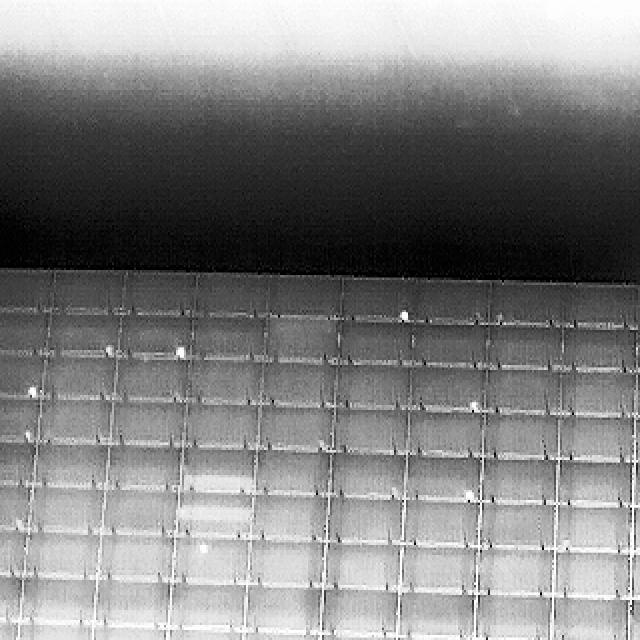Hotspots: (194, 543, 212, 561), (465, 398, 485, 413), (174, 346, 190, 361), (401, 306, 417, 320), (25, 381, 41, 395), (463, 484, 476, 501)
PV-modules: (402, 278, 491, 325), (20, 573, 97, 624), (318, 590, 398, 639), (28, 483, 106, 533), (400, 497, 478, 547), (329, 452, 406, 502), (479, 500, 557, 549), (244, 587, 320, 637), (561, 366, 637, 416), (326, 494, 402, 544), (394, 590, 470, 640), (322, 542, 399, 591), (93, 576, 168, 626), (477, 548, 555, 596), (168, 581, 246, 629), (182, 356, 260, 404), (22, 533, 100, 581), (248, 493, 326, 541), (552, 548, 628, 597), (251, 449, 327, 498), (102, 487, 178, 536), (99, 534, 173, 584), (397, 546, 474, 594), (256, 405, 333, 453), (479, 459, 559, 505), (41, 349, 116, 398), (111, 397, 184, 447), (488, 364, 562, 413), (406, 454, 478, 504), (553, 508, 628, 556), (182, 401, 257, 449), (489, 325, 565, 372), (266, 316, 340, 364), (37, 397, 111, 445), (483, 412, 560, 458), (248, 540, 323, 587), (560, 415, 635, 462), (185, 317, 263, 362), (42, 313, 118, 359), (492, 280, 568, 326), (404, 410, 478, 457), (330, 408, 404, 455), (173, 538, 247, 585), (558, 462, 633, 508), (470, 595, 546, 640), (564, 328, 638, 374), (176, 492, 250, 538), (106, 446, 180, 492), (189, 272, 266, 316), (259, 360, 336, 404), (337, 319, 409, 366), (548, 597, 626, 640), (266, 274, 342, 318), (410, 364, 484, 409), (32, 445, 106, 490), (414, 324, 489, 368), (123, 269, 196, 314), (115, 354, 186, 400), (48, 269, 122, 313), (335, 363, 407, 407), (120, 316, 191, 360), (340, 276, 408, 321), (568, 283, 639, 326), (182, 445, 256, 486), (0, 344, 44, 398), (0, 308, 44, 358), (0, 268, 48, 310), (0, 395, 38, 443), (0, 442, 33, 490), (14, 620, 90, 640), (0, 484, 30, 533), (0, 528, 25, 578), (88, 625, 166, 640), (166, 627, 242, 640), (0, 572, 20, 619), (316, 632, 396, 640), (240, 632, 318, 640), (628, 552, 640, 600), (630, 600, 640, 640), (468, 635, 546, 640), (390, 635, 468, 640), (632, 510, 640, 558), (632, 370, 640, 418), (632, 462, 640, 508), (0, 617, 16, 640), (632, 330, 640, 372), (636, 415, 640, 463), (636, 282, 640, 330)
